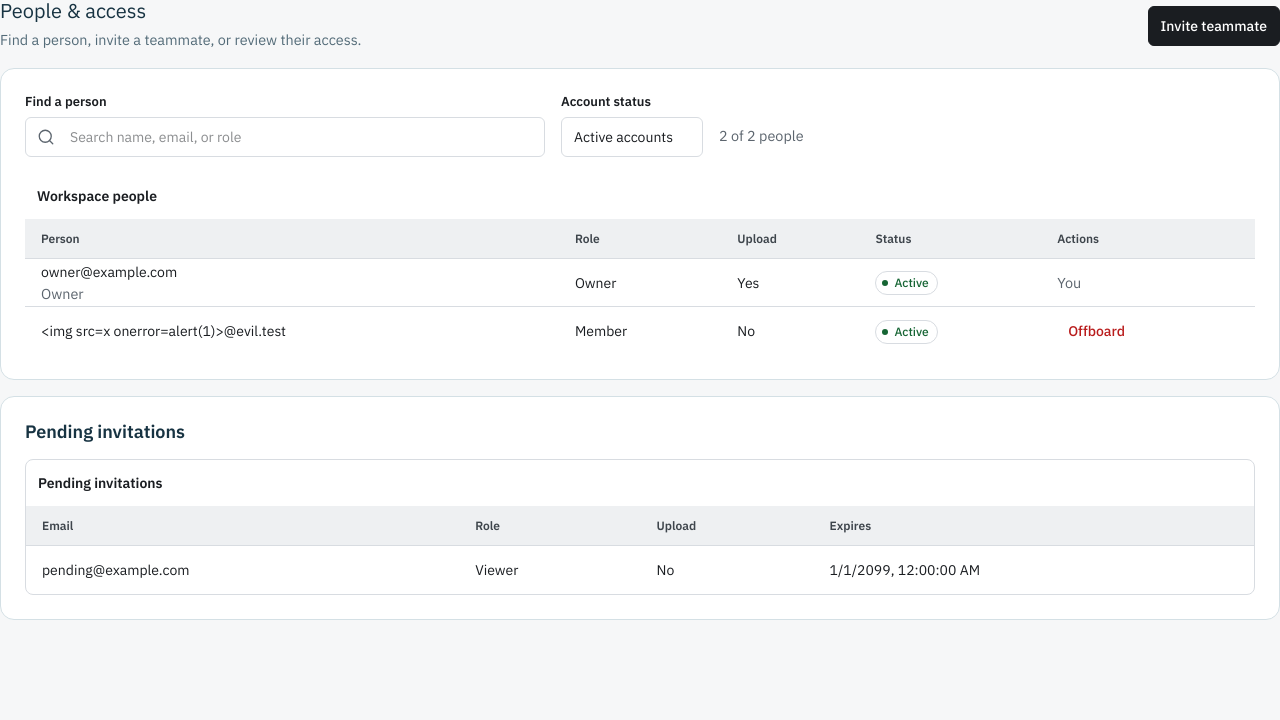
Test: TeamAccessPanel › offboards the selected person only after confirmation, without requiring an ID
What coordinates should you click on to do the following:
click the button "Offboard"
I would click on:
 (1097, 331)
Its box is [1057,315,1136,347].
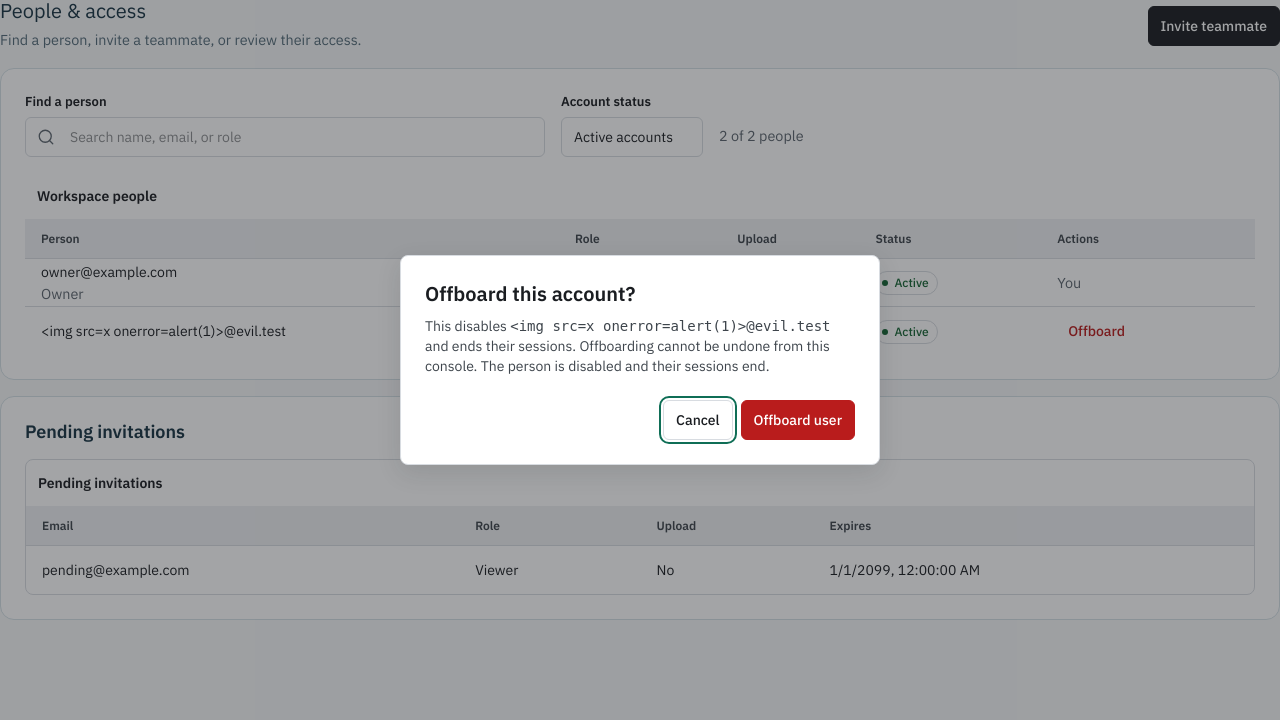
Expected: the dialog shows "<img src=x onerror=alert(1)>@evil.test", [510,318,831,334]
What coordinates should you click on to do the following:
click the button "Offboard user"
I would click on:
 (798, 420)
Its box is [741,400,855,440].
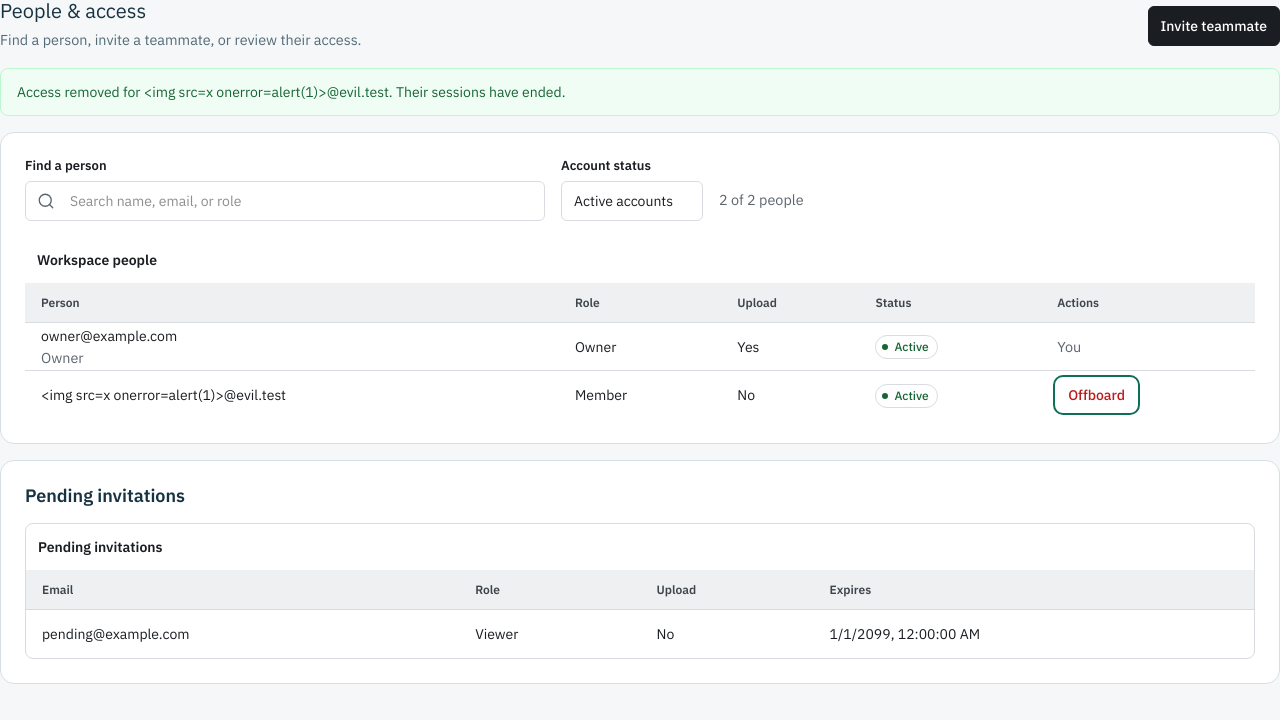
Expected: the element with test id "offboard-result" shows "Access removed for", [17,83,144,101]
